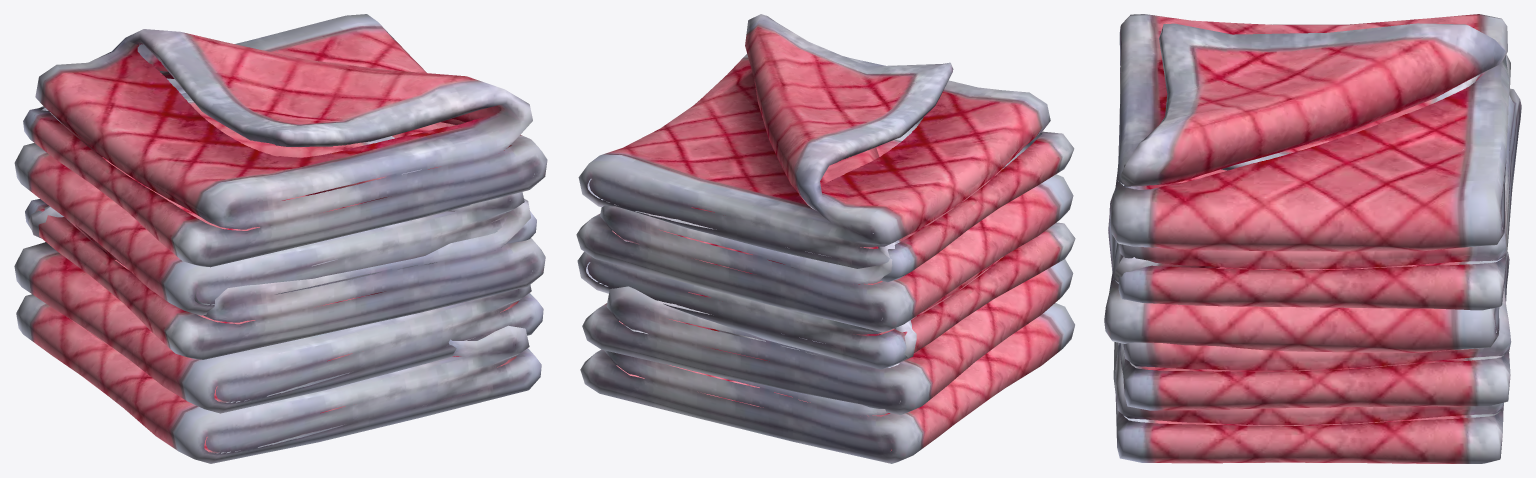
3 views of the same model, side by side, from view 1: azimuth 30°, elevation 25°; view 2: azimuth 150°, elevation 25°; view 3: azimuth 270°, elevation 25° (orthographic). The views are drawn at different scales.
Visible parts, largest first — view 1: SM_Cloth_Padded_Pile_LOD0; view 2: SM_Cloth_Padded_Pile_LOD0; view 3: SM_Cloth_Padded_Pile_LOD0.
Boxes of the visible parts, x1,y1,x2,y2 form: SM_Cloth_Padded_Pile_LOD0: (14, 14, 547, 463); SM_Cloth_Padded_Pile_LOD0: (576, 14, 1075, 463); SM_Cloth_Padded_Pile_LOD0: (1104, 14, 1521, 463).
Size of the model in its own units: 0.5739 by 0.4431 by 0.5174.
Materials: 1 (1 with a texture image).
